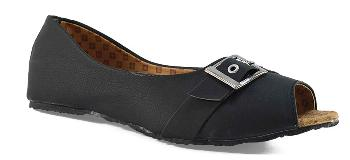Footwear: (23, 10, 342, 148)
